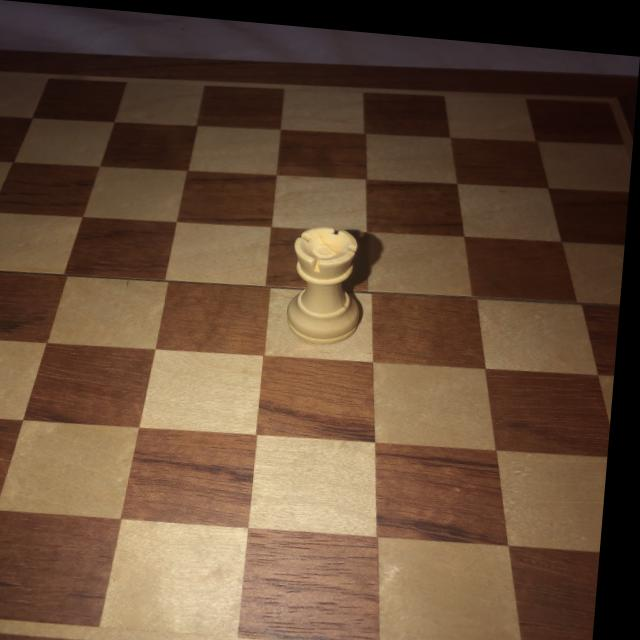white_rook: (289, 218, 372, 341)
